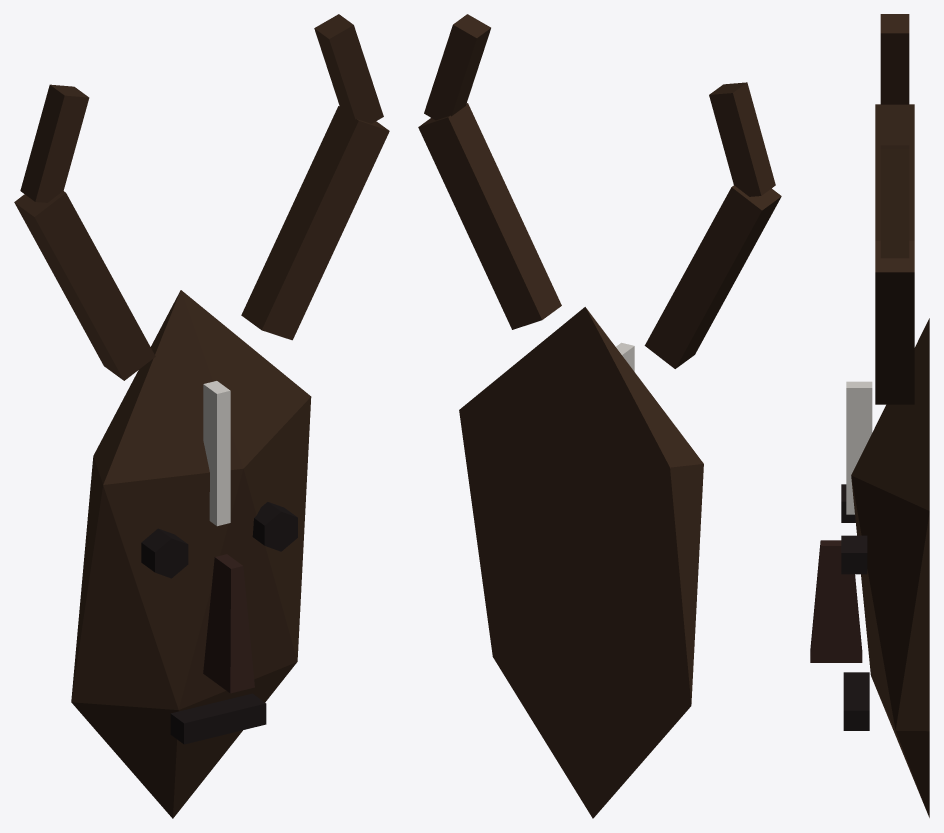
File: wall-mask-33.glb
The picture shows the model from 3 angles, left to right: view 1: azimuth 30°, elevation 25°; view 2: azimuth 150°, elevation 25°; view 3: azimuth 270°, elevation 25°; orthographic projection. The views are drawn at different scales.
Visible parts, largest first — view 1: wall_mask_33; view 2: wall_mask_33; view 3: wall_mask_33.
Part boxes in pixels (<box>): wall_mask_33: <box>14,14,389,818</box>; wall_mask_33: <box>418,14,781,818</box>; wall_mask_33: <box>810,14,929,817</box>.
Bounding box in the file's own units: 0.3015 × 0.6284 × 0.0918.
